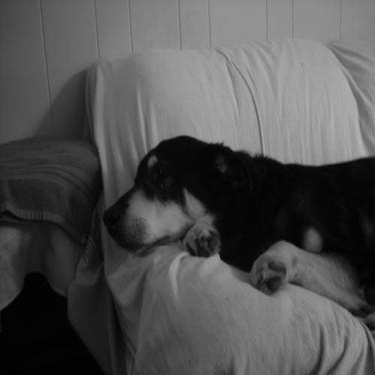dog: (99, 121, 372, 343)
